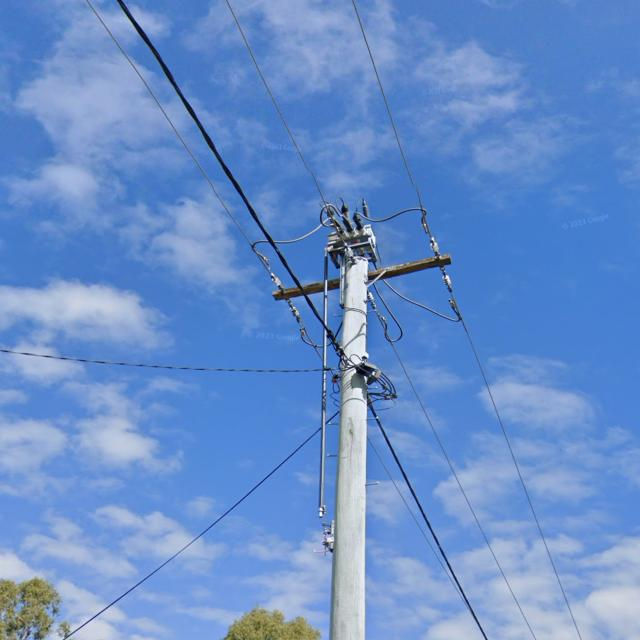HV-switch: (318, 198, 380, 261)
HV-transmission: (266, 231, 453, 319)
LV link box: (348, 360, 383, 385)
crossarm: (272, 253, 454, 303)
timber-pole: (327, 255, 371, 640)
